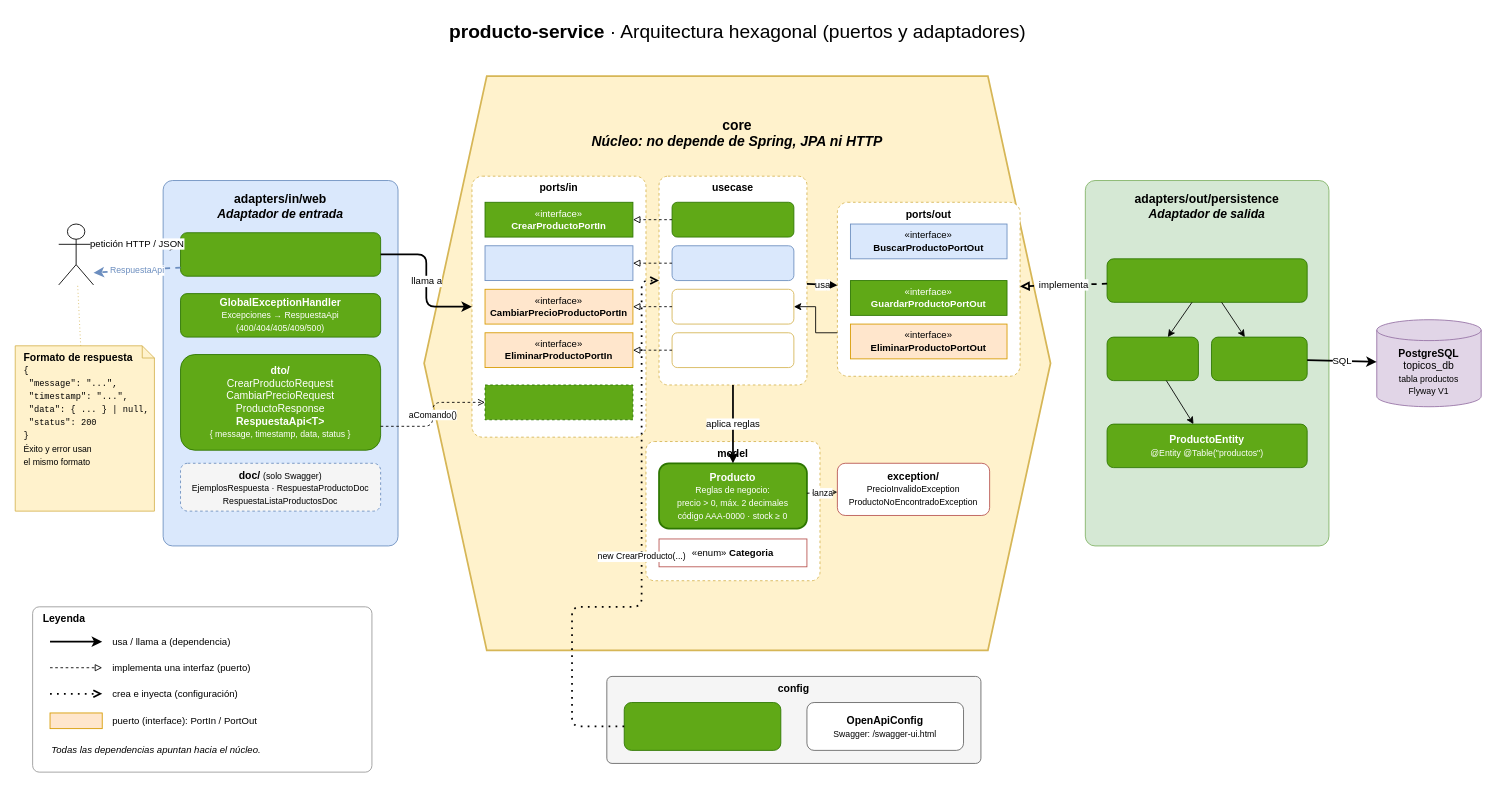
Some shapes in this 1496 by 787 pixel diagram are drawn without their labels. The shapes that lost their labels are listed below. From the top down, each one's centre as x and y in pixels, then its label:
At [732,219]: "CrearProducto".
At [76,254]: "Cliente HTTP Swagger UI / curl".
At [280,254]: "ProductoController @RestController /api/productos".
At [558,263]: "«interface» ObtenerProductoPortIn".
At [732,263]: "ObtenerProducto".
At [1206,280]: "ProductoRepositoryAdapter @Component · implementa los 3 PortOut".
At [732,306]: "CambiarPrecioProducto".
At [732,350]: "EliminarProducto".
At [1152,358]: "ProductoMapper Producto ↔ ProductoEntity".
At [1259,358]: "ProductoJpaRepository Spring Data JPA".
At [558,402]: "«record» CrearProductoCommand".
At [702,726]: "BeanConfig crea los casos de uso e inyecta los PortOut".
